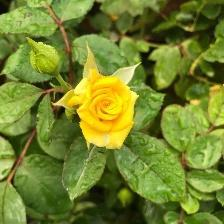rose: (67, 67, 140, 153)
